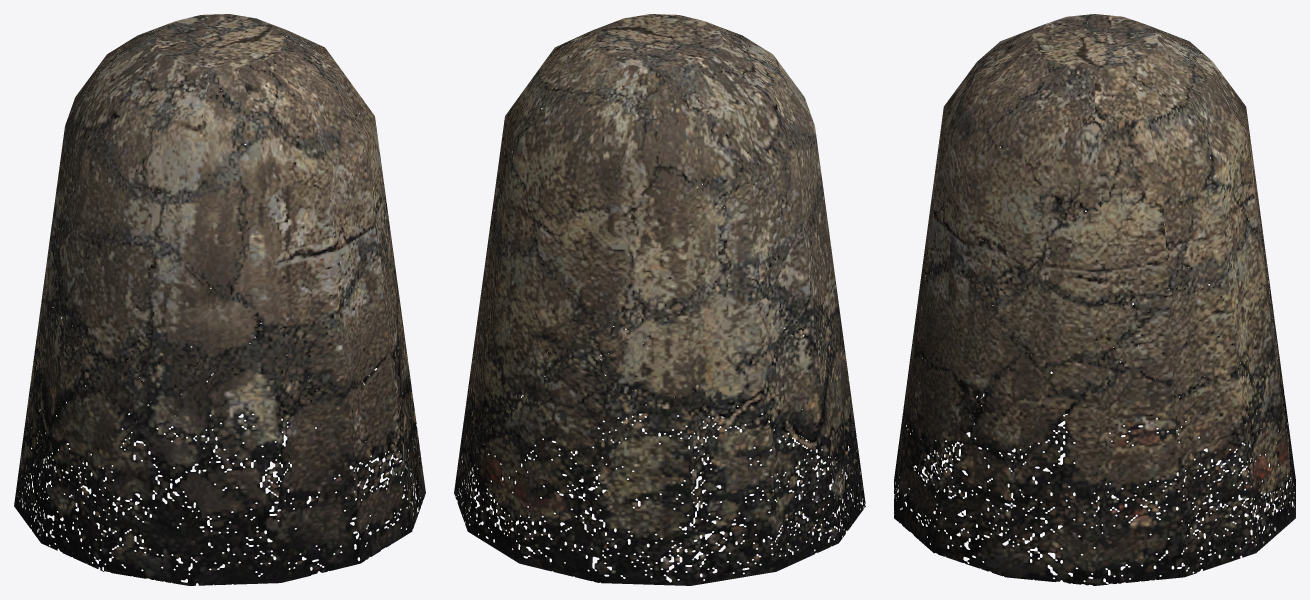
The model's file is corner_bolder.DAE.
The picture shows the model from 3 angles, left to right: view 1: azimuth 30°, elevation 25°; view 2: azimuth 150°, elevation 25°; view 3: azimuth 270°, elevation 25°; orthographic projection.
Visible parts, largest first — view 1: Cylinder001; view 2: Cylinder001; view 3: Cylinder001.
Boxes of the visible parts, left/top/right/bottom form: Cylinder001: left=14, top=14, right=425, bottom=585; Cylinder001: left=454, top=14, right=865, bottom=585; Cylinder001: left=894, top=14, right=1295, bottom=585.
Size of the model in its own units: 0.6353 by 0.7784 by 0.6194.
